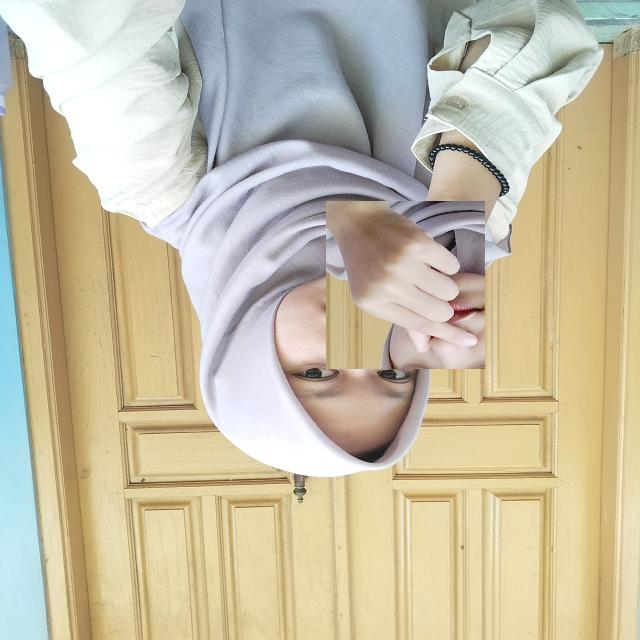bau: (326, 201, 485, 369)
